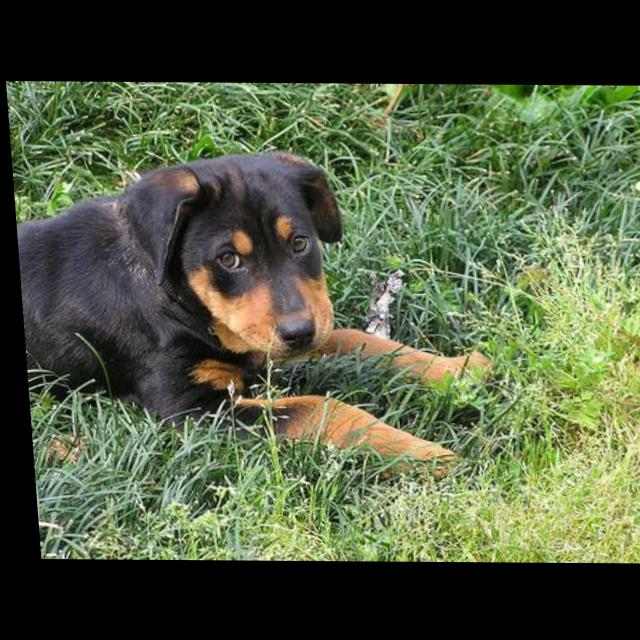rottweiler: (10, 148, 496, 483)
